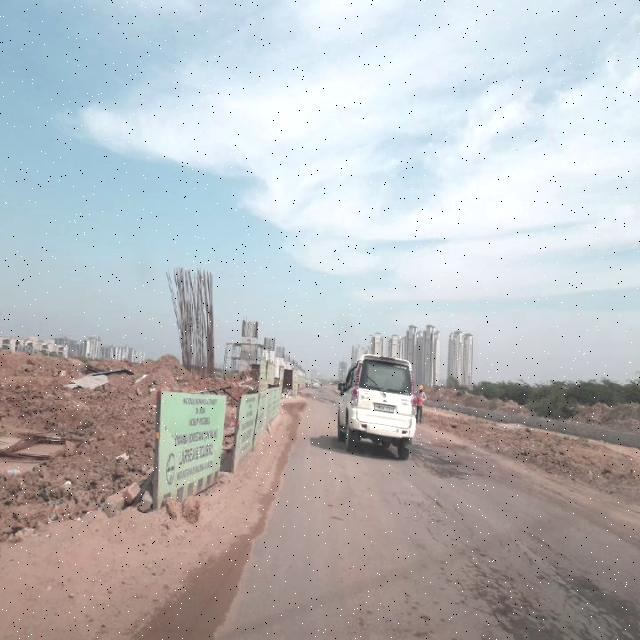D20: (443, 511, 629, 639)
D40: (420, 438, 474, 478)
